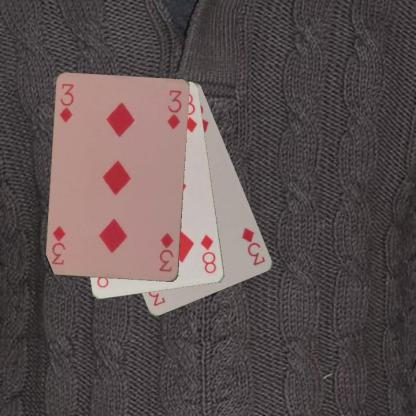3d: (239, 225, 267, 267), (57, 81, 76, 124), (157, 230, 175, 274)
8d: (198, 232, 218, 275)
